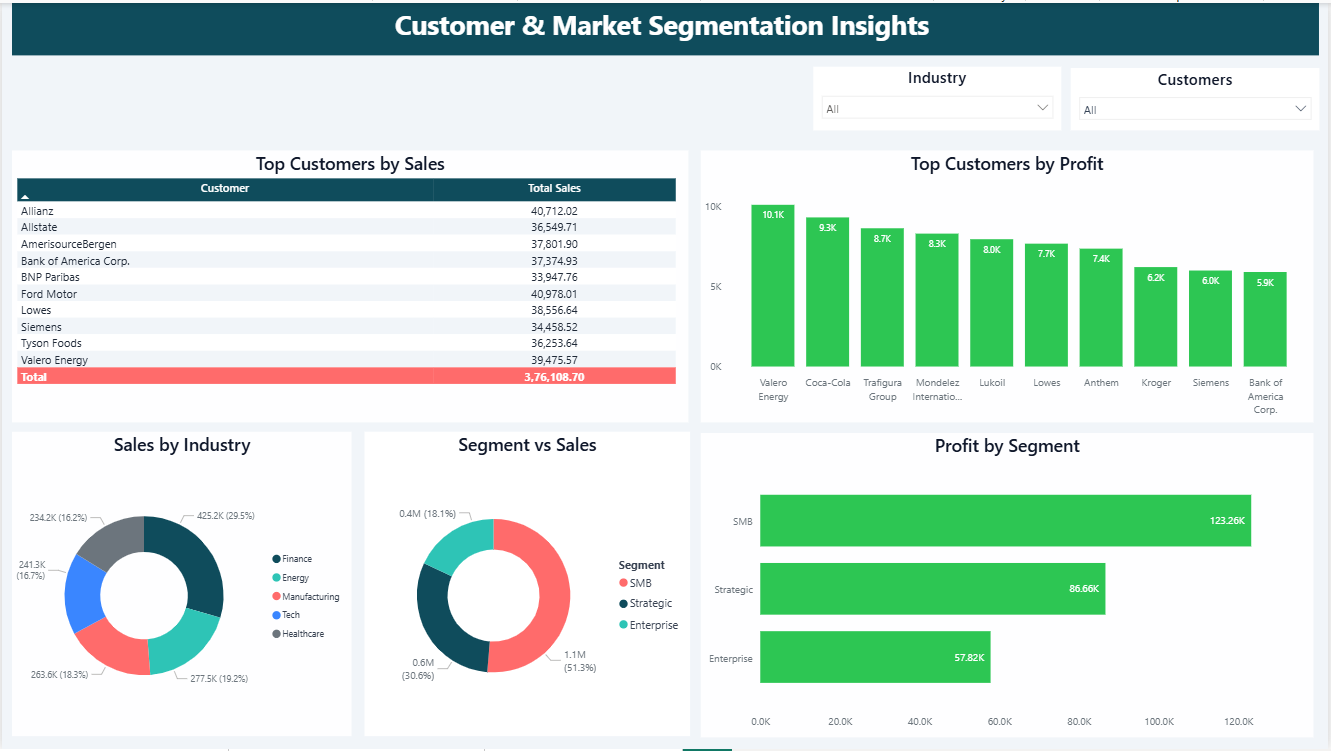

Layout of this report page (visuals, bound fields, positions):
{"tool":"powerbi","page":{"name":"Customer & Segment Analysis","canvas":[1280,720],"ordinal":2},"visuals":[{"type":"barChart","title":"Profit by Segment","fields":{"Category":["SaaS-Sales.Segment"],"Y":["SaaS-Sales.Total Profit"]},"box":[11.2,67.5,665,300],"z":0},{"type":"tableEx","title":"Top 10 Customers by Sales","fields":{"Values":["SaaS-Sales.Customer","SaaS-Sales.Total Sales"]},"box":[683.8,67.5,590,291.2],"z":1000},{"type":"pieChart","title":"Sales by Industry","fields":{"Category":["SaaS-Sales.Industry"],"Y":["SaaS-Sales.Total Sales"]},"box":[11.2,380,665,340],"z":2000},{"type":"columnChart","fields":{"Category":["SaaS-Sales.Region"],"Y":["CountNonNull(SaaS-Sales.Customer ID)"]},"box":[683.8,367.5,590,352.5],"z":3000},{"type":"textbox","box":[11.2,0,1262.5,56.2],"z":4000}]}

Visuals, with their boxes in screenshot pixels (x1, y1, x2, y2), scaled from the page's 1280x720 canvas onto the 1331x751 screenshot:
"Profit by Segment" barChart: [left=12, top=70, right=703, bottom=383]
"Top 10 Customers by Sales" tableEx: [left=711, top=70, right=1325, bottom=374]
"Sales by Industry" pieChart: [left=12, top=396, right=703, bottom=750]
columnChart - SaaS-Sales.Region x CountNonNull(SaaS-Sales.Customer ID): [left=711, top=383, right=1325, bottom=750]
textbox: [left=12, top=0, right=1324, bottom=59]
